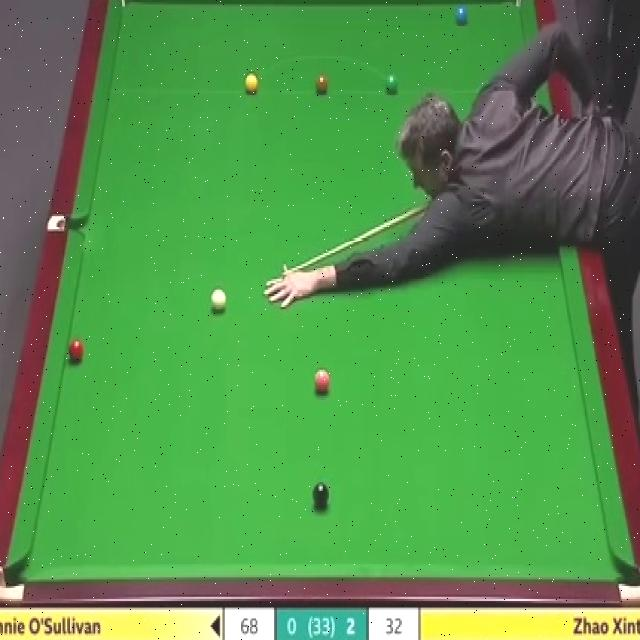black-ball: (311, 481, 330, 510)
blue-ball: (454, 5, 468, 24)
brown-ball: (314, 72, 329, 95)
green-ball: (382, 74, 398, 95)
pink-ball: (312, 368, 330, 394)
red-ball: (66, 336, 86, 363)
white-ball: (207, 286, 228, 316)
yellow-ball: (244, 71, 259, 94)
